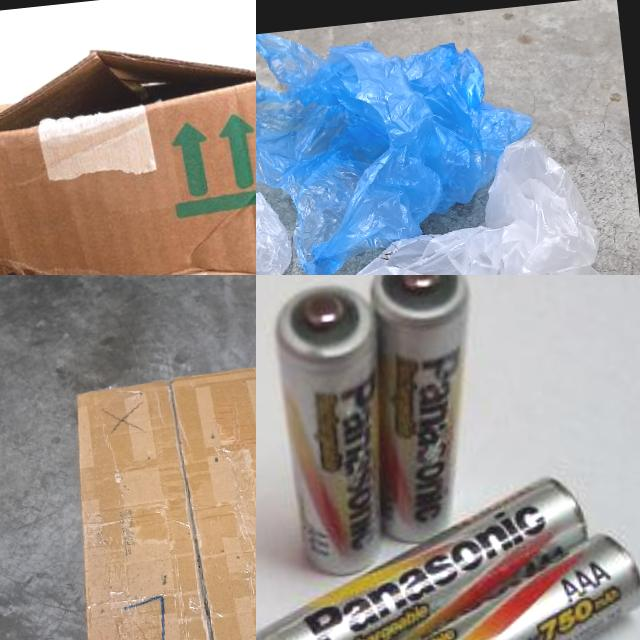bateria: (256, 474, 604, 640), (267, 278, 406, 582), (281, 526, 640, 640), (355, 275, 493, 548)
papelão: (0, 29, 256, 275), (56, 357, 256, 640)
sacola plástica: (256, 6, 542, 275), (256, 129, 640, 275)
